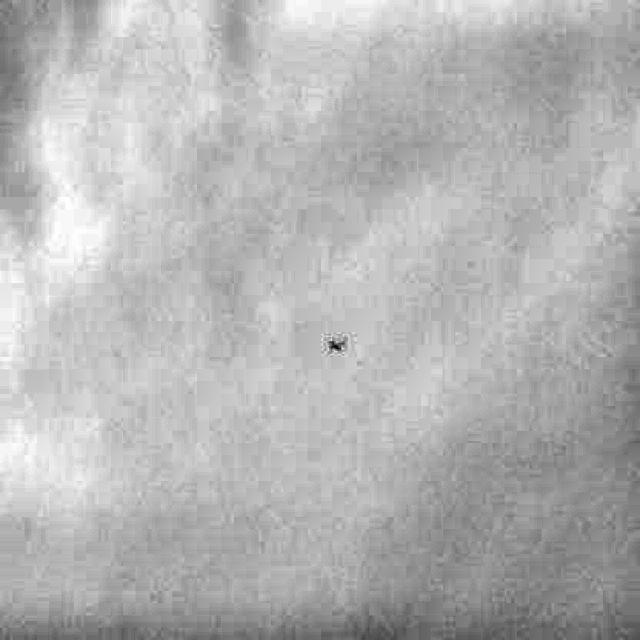V22: (328, 336, 347, 355)
